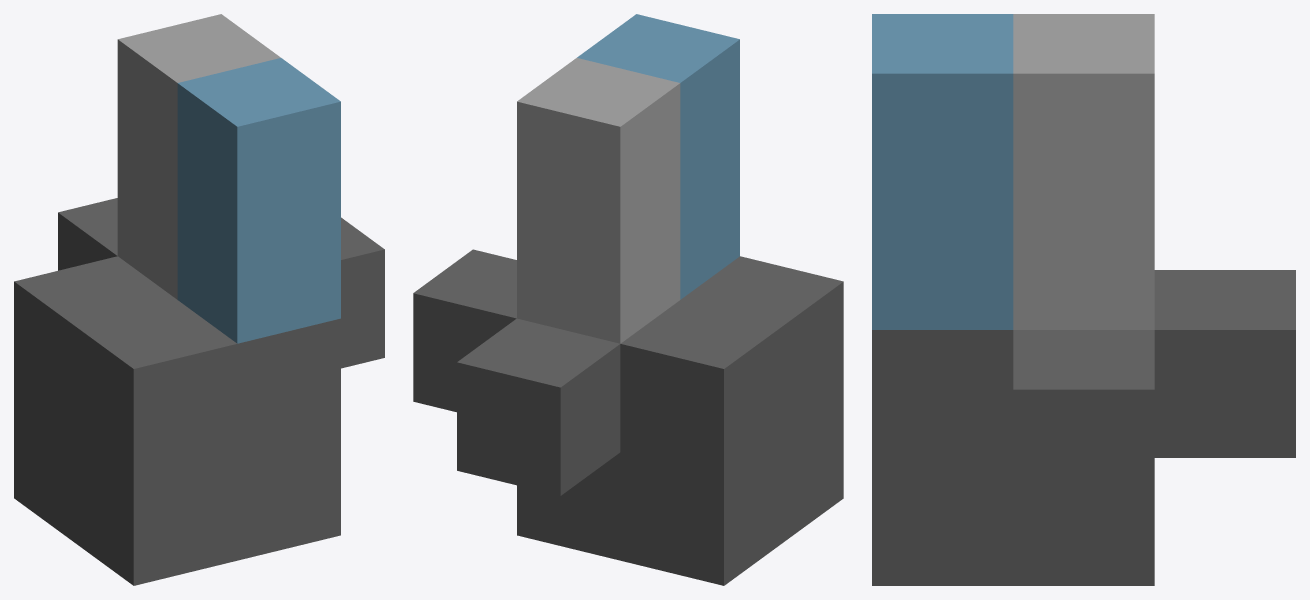
The model's file is jotunheim-1.obj.
3 renders of one model, left to right at view 1: azimuth 30°, elevation 25°; view 2: azimuth 150°, elevation 25°; view 3: azimuth 270°, elevation 25°, orthographic. The views are drawn at different scales.
Size of the model in its own units: 0.3 by 0.4 by 0.3.
1 material, 1 textured.
